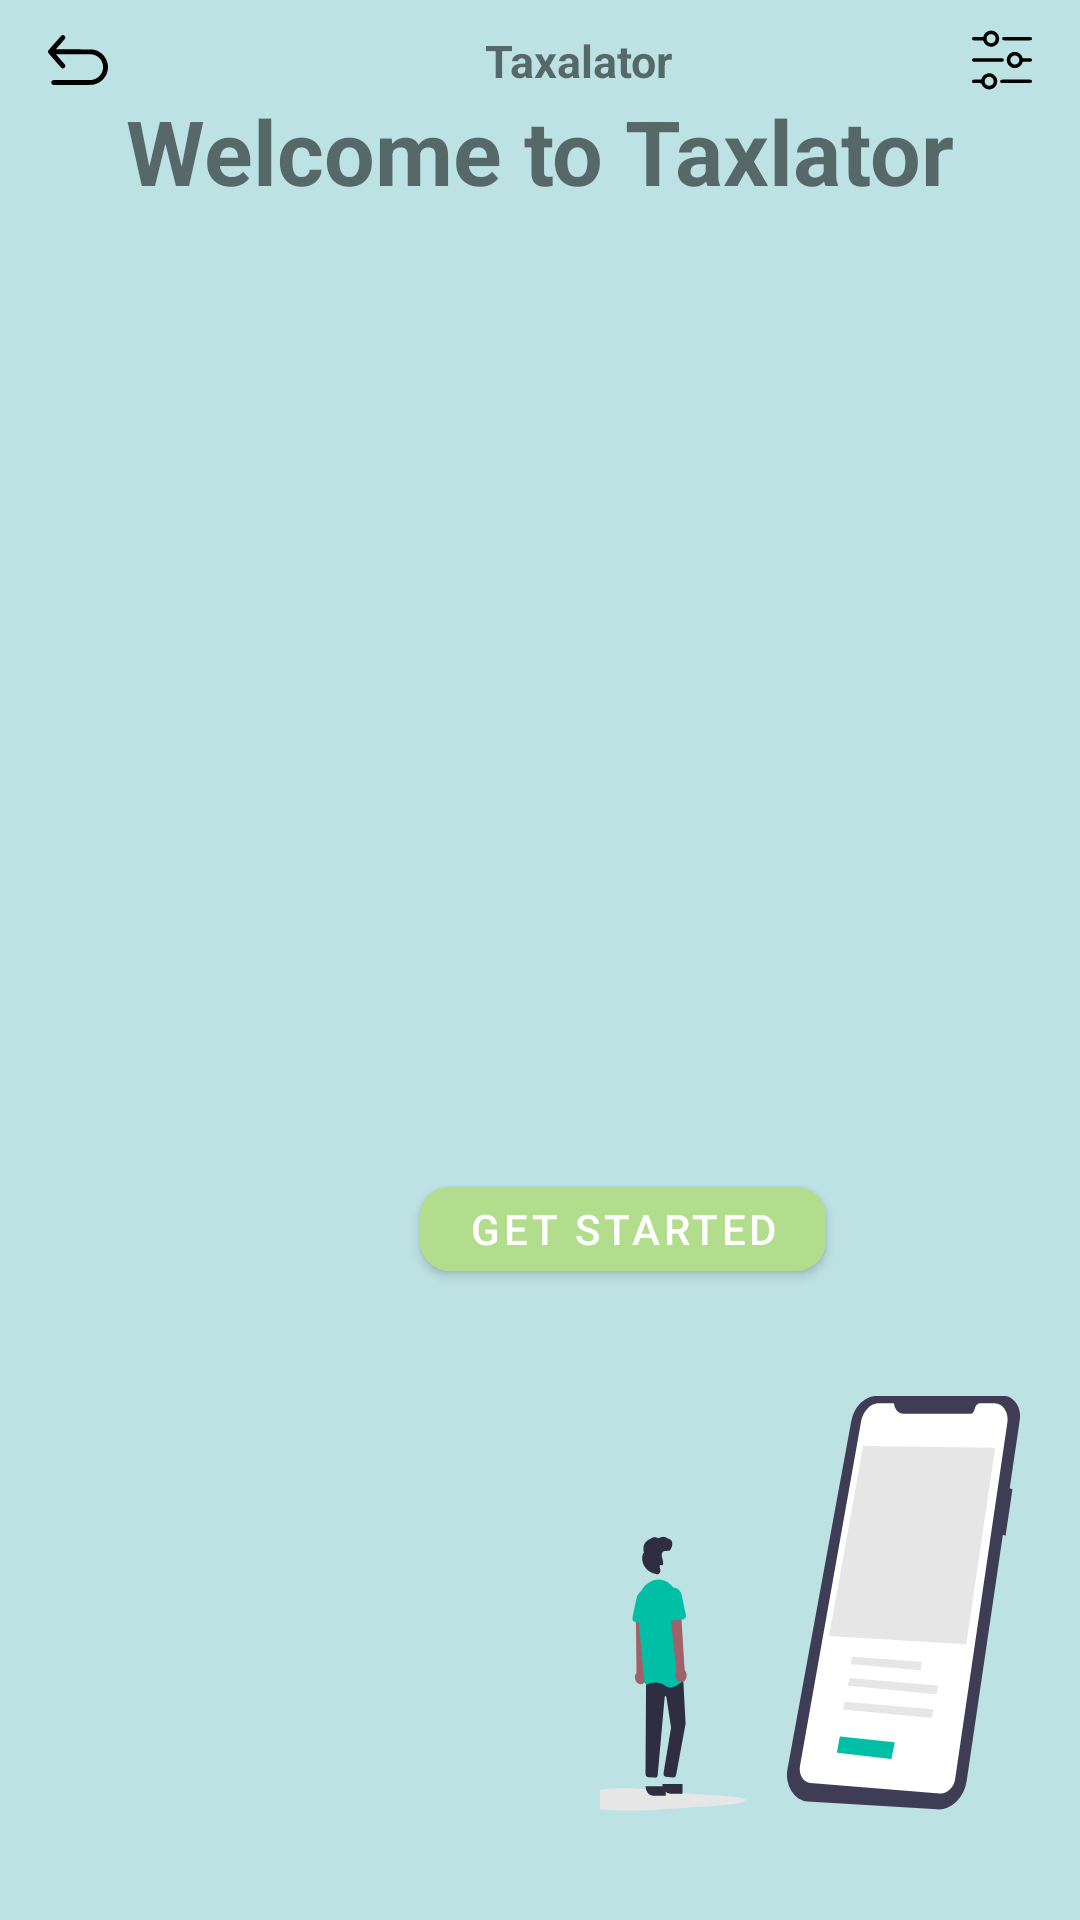

Locate icon controls on the screen. Image size 1080px x 1920px, boxes as BBox(x1, y1, x2, y2).
setting: BBox(972, 30, 1032, 90)
undo: BBox(48, 35, 108, 85)
